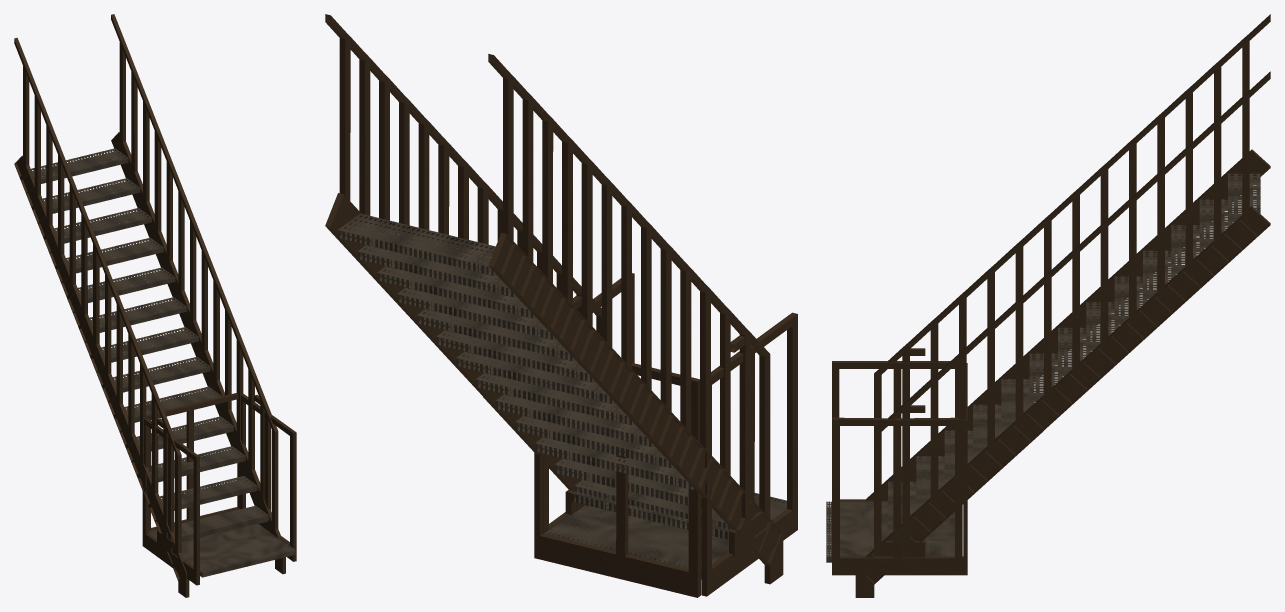
The model's file is Escadas de metal BAKED.fbx.
3 renders of one model, left to right at view 1: azimuth 30°, elevation 25°; view 2: azimuth 150°, elevation 25°; view 3: azimuth 270°, elevation 25°, orthographic. The views are drawn at different scales.
Parts seen in each view (by area): view 1: Escada Grande, Escada Pequena, Passarela, Passarela 4, Passarela 3, Passarela 2, Fim da Escada, Escada Primeiro Degrau; view 2: Escada Grande, Passarela, Passarela 3, Escada Pequena, Fim da Escada, Passarela 4; view 3: Escada Grande, Escada Pequena, Passarela, Passarela 3, Passarela 4, Passarela 2, Fim da Escada.
Boxes of the visible parts, bbox=[...] form: Escada Grande: bbox=[14, 14, 281, 580]; Escada Pequena: bbox=[108, 254, 278, 573]; Passarela: bbox=[142, 401, 296, 585]; Passarela 4: bbox=[149, 524, 295, 577]; Passarela 3: bbox=[146, 393, 296, 561]; Passarela 2: bbox=[239, 394, 296, 547]; Fim da Escada: bbox=[157, 395, 267, 551]; Escada Primeiro Degrau: bbox=[178, 557, 285, 597]; Escada Grande: bbox=[325, 14, 782, 565]; Passarela: bbox=[543, 273, 797, 596]; Passarela 3: bbox=[534, 292, 700, 597]; Escada Pequena: bbox=[483, 187, 782, 565]; Fim da Escada: bbox=[565, 296, 762, 556]; Passarela 4: bbox=[548, 493, 786, 575]; Escada Grande: bbox=[864, 14, 1270, 583]; Escada Pequena: bbox=[863, 222, 1043, 584]; Passarela: bbox=[832, 361, 962, 575]; Passarela 3: bbox=[832, 363, 967, 575]; Passarela 4: bbox=[826, 501, 954, 562]; Passarela 2: bbox=[832, 417, 962, 558]; Fim da Escada: bbox=[884, 348, 925, 557].
Size of the model in its own units: 130 by 532 by 408.
